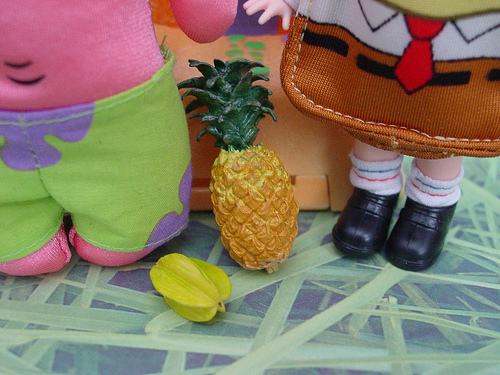pineapple: (176, 59, 297, 271)
